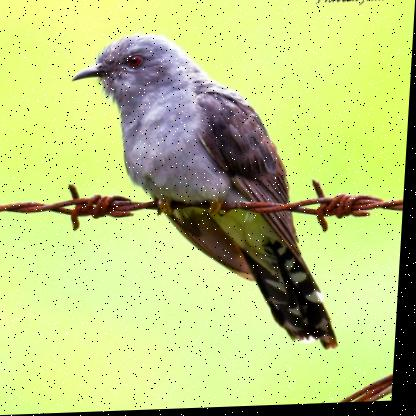Burung: (59, 29, 357, 359)
